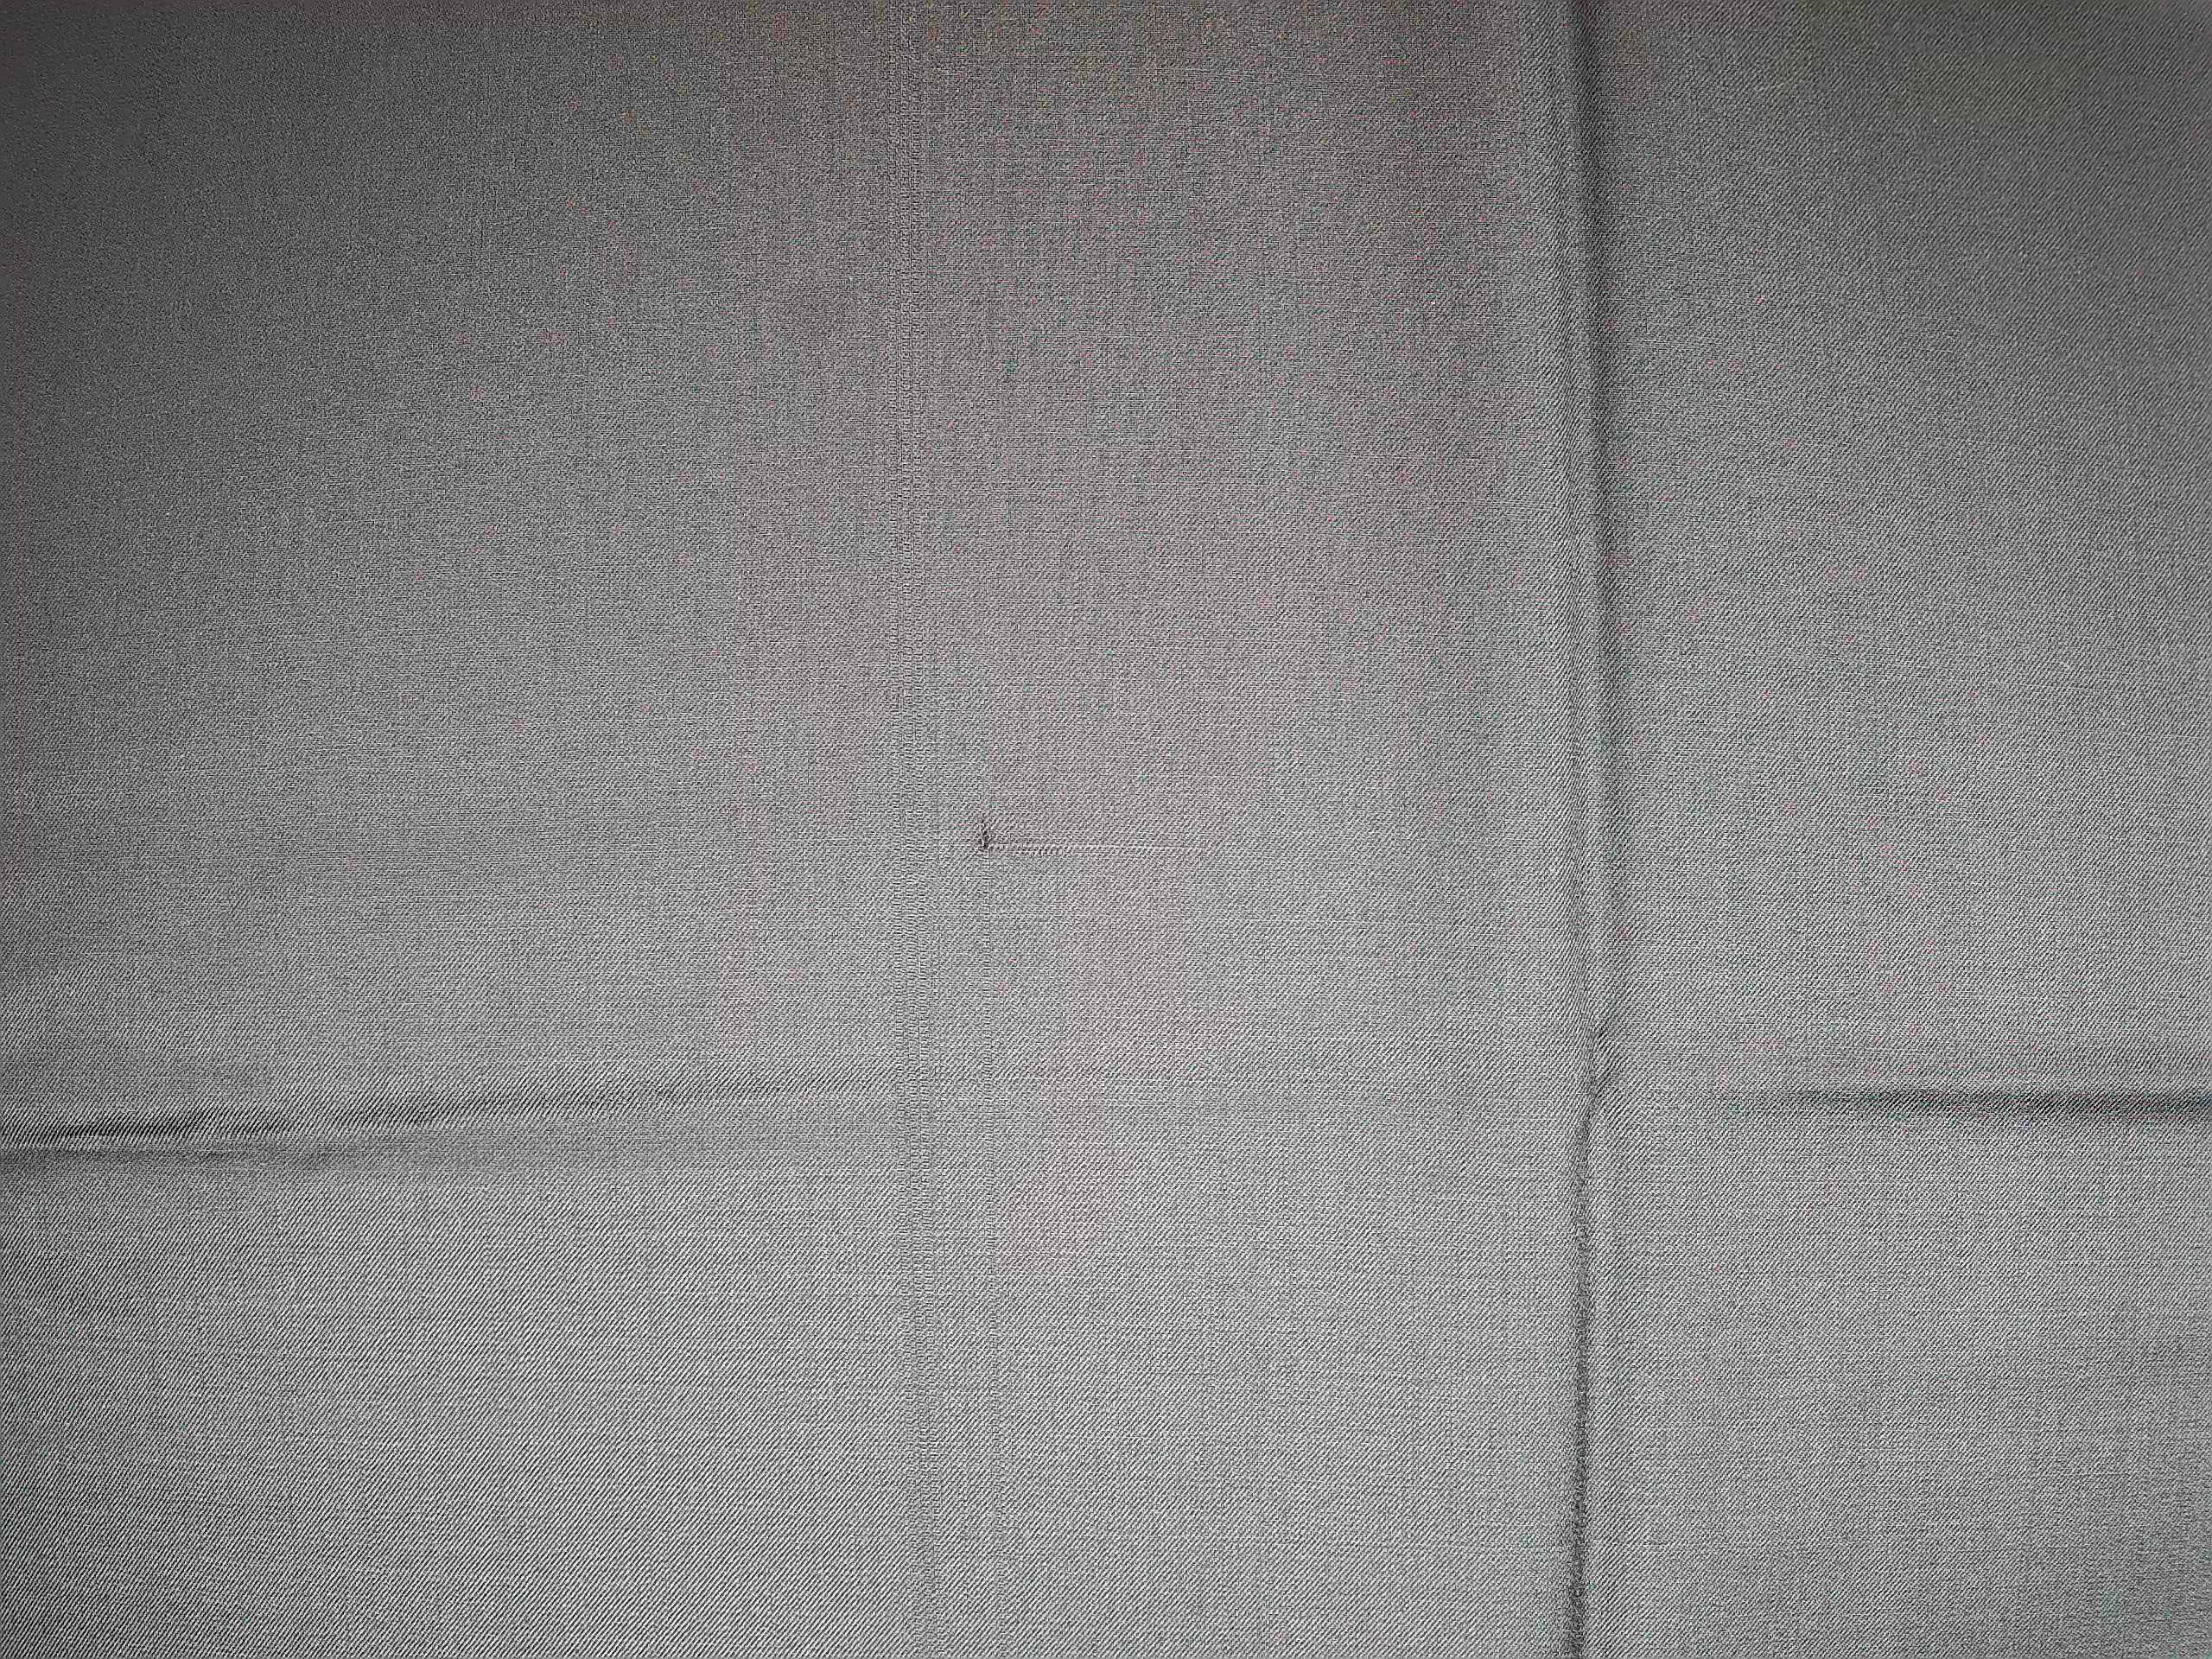hanging-warp: (864, 9, 951, 1635)
others: (967, 805, 1256, 878)
